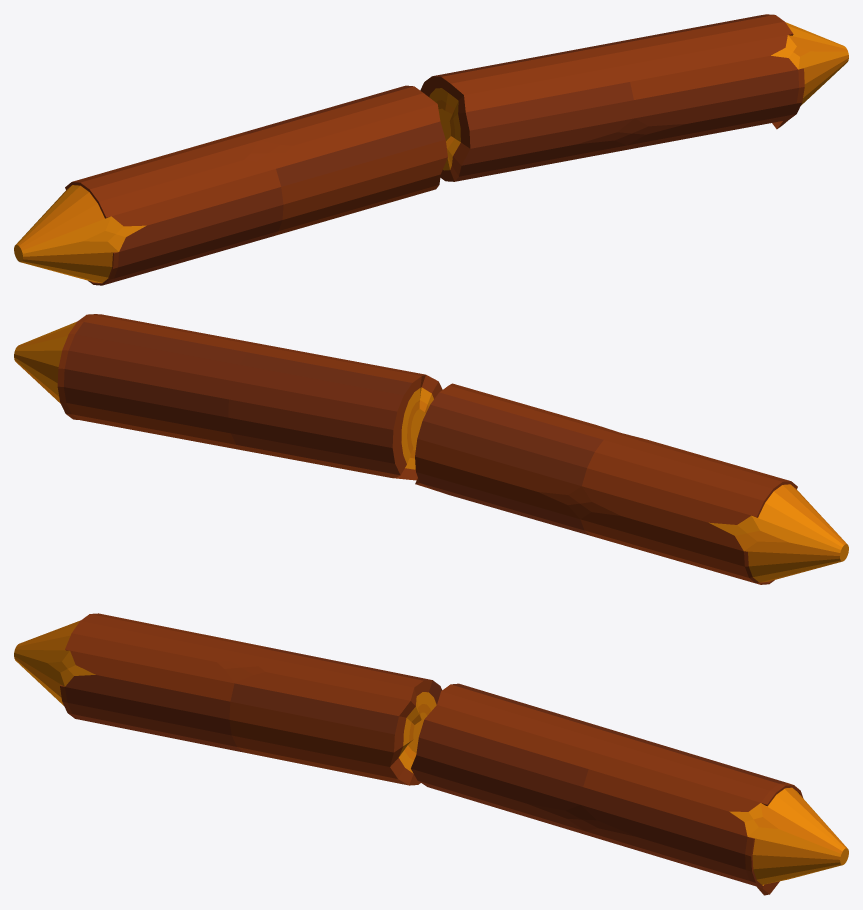
The model's file is Broken log_5.fbx.
The picture shows the model from 3 angles, top to bottom: view 1: azimuth 30°, elevation 25°; view 2: azimuth 150°, elevation 25°; view 3: azimuth 330°, elevation 25°; orthographic projection.
Parts seen in each view (by area): view 1: Circle.015, Circle.020; view 2: Circle.015, Circle.020; view 3: Circle.020, Circle.015.
Part boxes in pixels (left/top/right/bottom): Circle.015: left=14, top=85, right=447, bottom=285; Circle.020: left=420, top=14, right=848, bottom=181; Circle.015: left=415, top=383, right=848, bottom=584; Circle.020: left=14, top=314, right=442, bottom=480; Circle.020: left=411, top=683, right=848, bottom=895; Circle.015: left=14, top=613, right=442, bottom=785.
Size of the model in its own units: 226 by 32.32 by 25.71.
